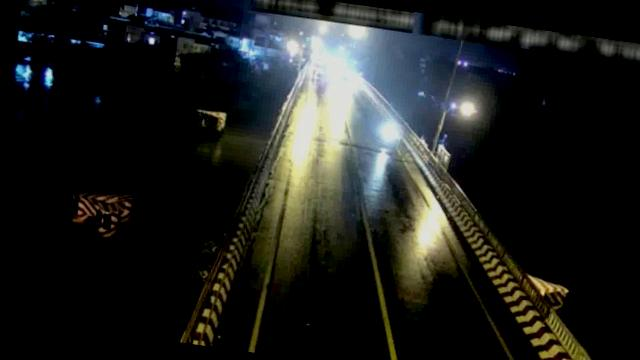Bike: (376, 119, 402, 147)
